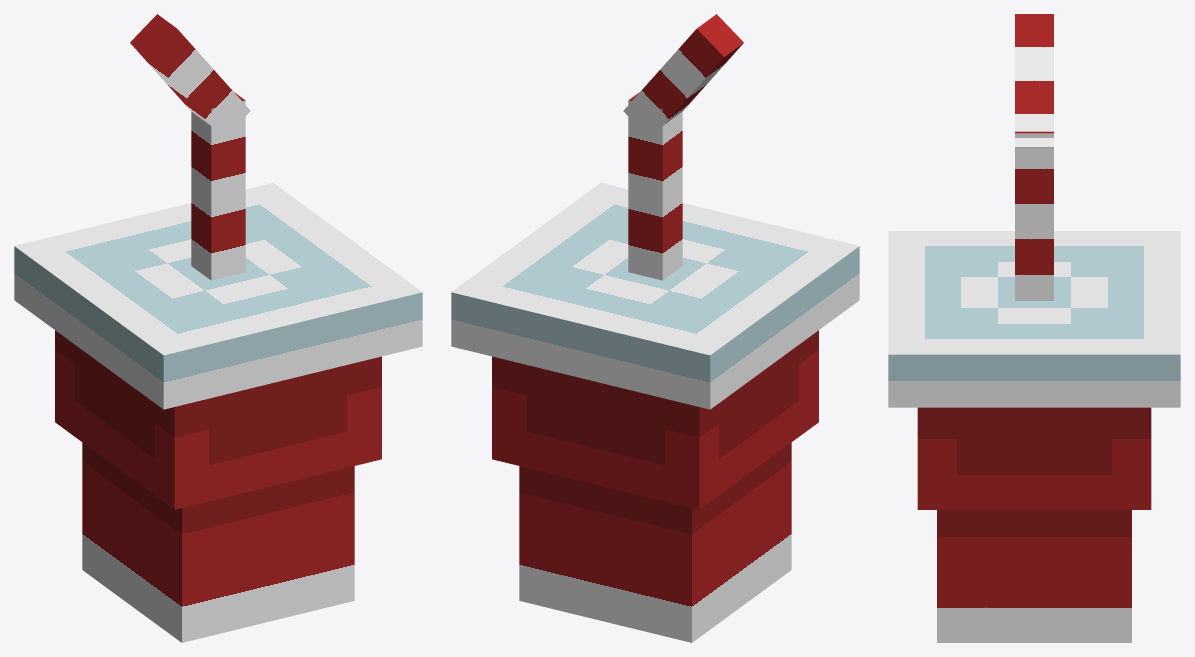
File: cup.obj
3 renders of one model, left to right at view 1: azimuth 30°, elevation 25°; view 2: azimuth 150°, elevation 25°; view 3: azimuth 270°, elevation 25°, orthographic. The views are drawn at different scales.
Visible parts, largest first — view 1: mesh; view 2: mesh; view 3: mesh.
Boxes of the visible parts, <box> form: mesh: <box>14,14,422,642</box>; mesh: <box>451,14,859,642</box>; mesh: <box>888,14,1180,642</box>.
Size of the model in its own units: 0.4688 by 0.997 by 0.4688.
1 material, 1 textured.
